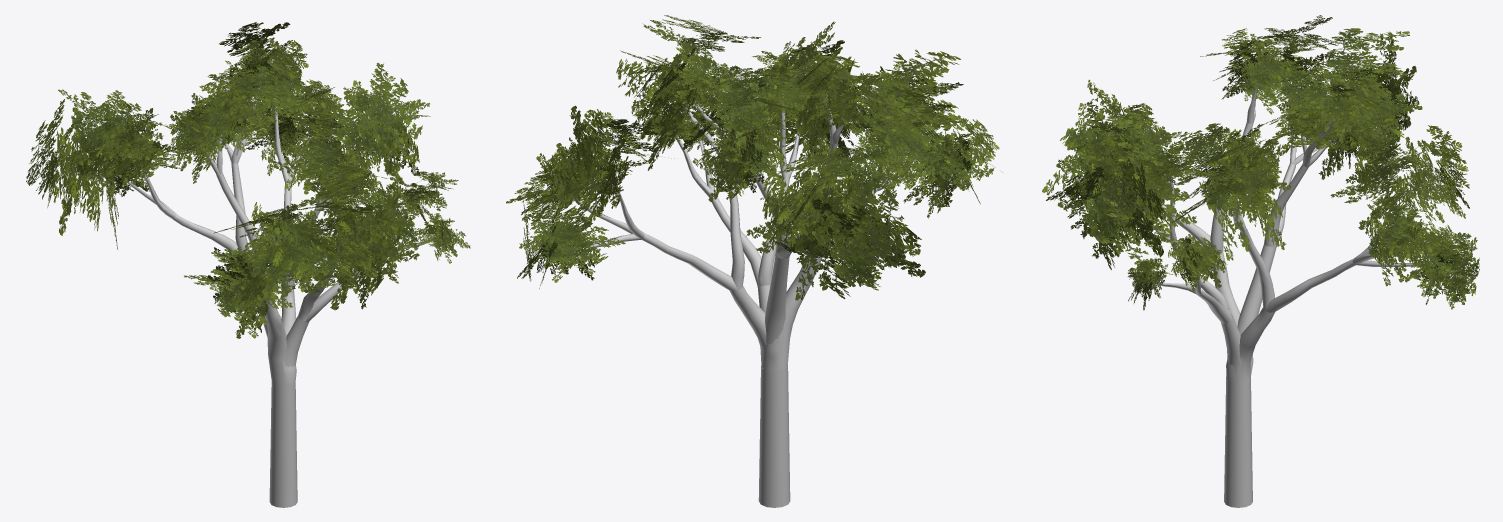
The model's file is Umbrella_Acacia_Model_0.obj.
3 views of the same model, side by side, from view 1: azimuth 30°, elevation 25°; view 2: azimuth 150°, elevation 25°; view 3: azimuth 270°, elevation 25° (orthographic). The views are drawn at different scales.
Visible parts, largest first — view 1: Foliage__leafcard, Bark; view 2: Foliage__leafcard, Bark; view 3: Foliage__leafcard, Bark.
Part boxes in pixels (<box>): Foliage__leafcard: <box>26,22,470,338</box>; Bark: <box>119,72,435,507</box>; Foliage__leafcard: <box>506,15,1002,300</box>; Bark: <box>574,91,929,507</box>; Foliage__leafcard: <box>1042,15,1479,310</box>; Bark: <box>1141,83,1424,507</box>.
Size of the model in its own units: 8.7 by 10 by 9.36.
